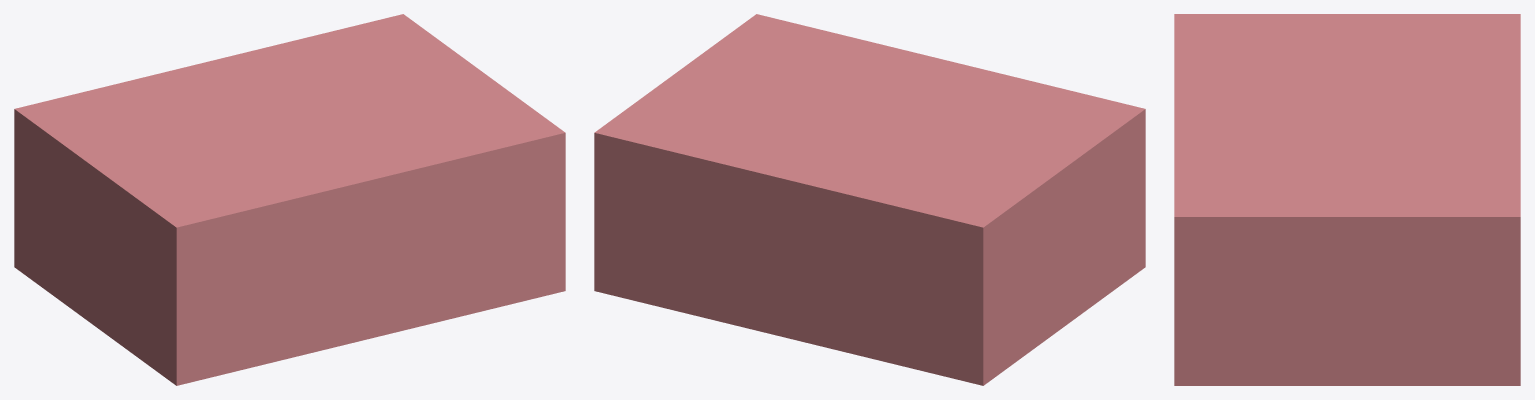
File: product_meat.glb
3 renders of one model, left to right at view 1: azimuth 30°, elevation 25°; view 2: azimuth 150°, elevation 25°; view 3: azimuth 270°, elevation 25°, orthographic. The views are drawn at different scales.
Visible parts, largest first — view 1: body.012; view 2: body.012; view 3: body.012.
Boxes of the visible parts, <box> form: body.012: <box>14,14,565,385</box>; body.012: <box>594,14,1145,385</box>; body.012: <box>1174,14,1520,385</box>.
Bounding box in the file's own units: 0.36 × 0.14 × 0.26.
